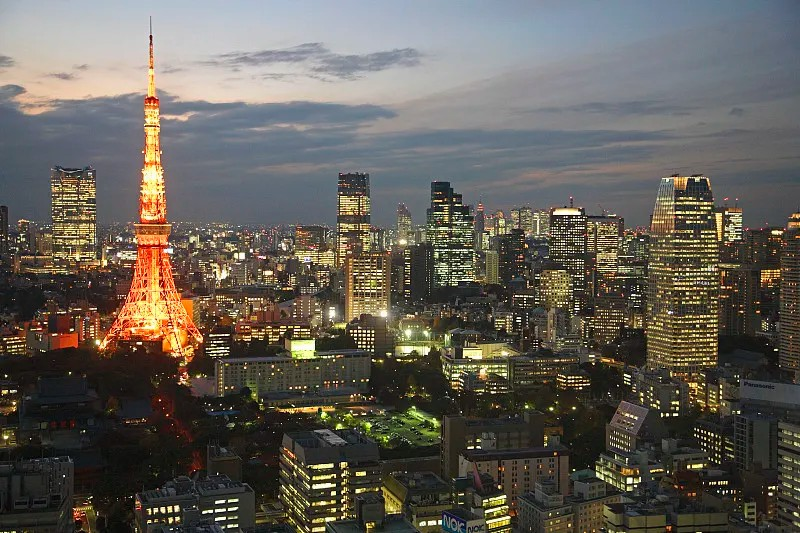Tokyo: (99, 12, 204, 367)
